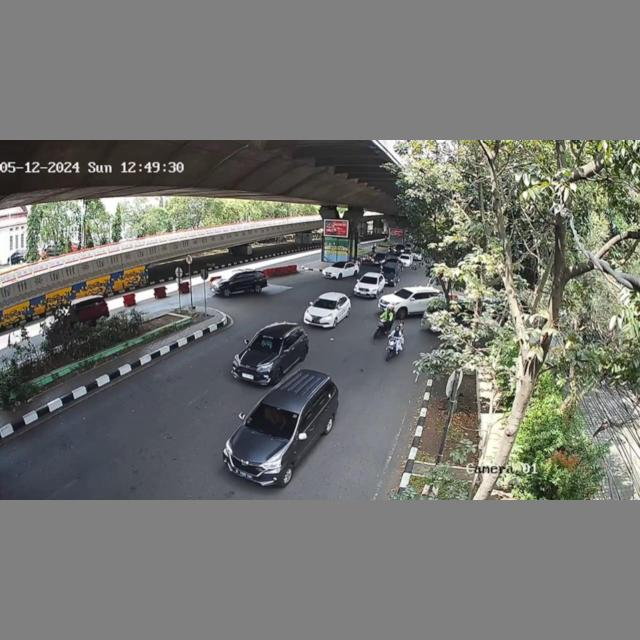windshield: (245, 401, 298, 441), (247, 333, 282, 355), (308, 296, 341, 312)
